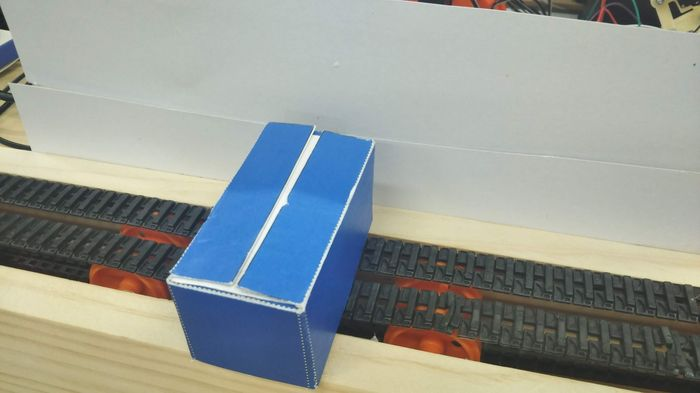box3: (162, 119, 378, 389)
